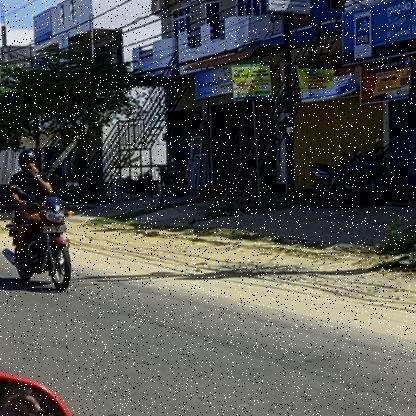motorcycle: (0, 192, 74, 292)
